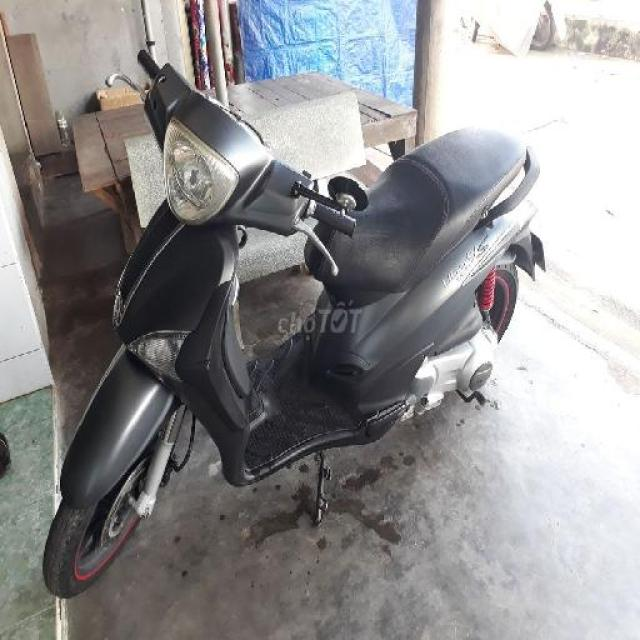All: (38, 48, 550, 599)
Head: (106, 62, 364, 237)
Tail: (445, 118, 538, 224)
